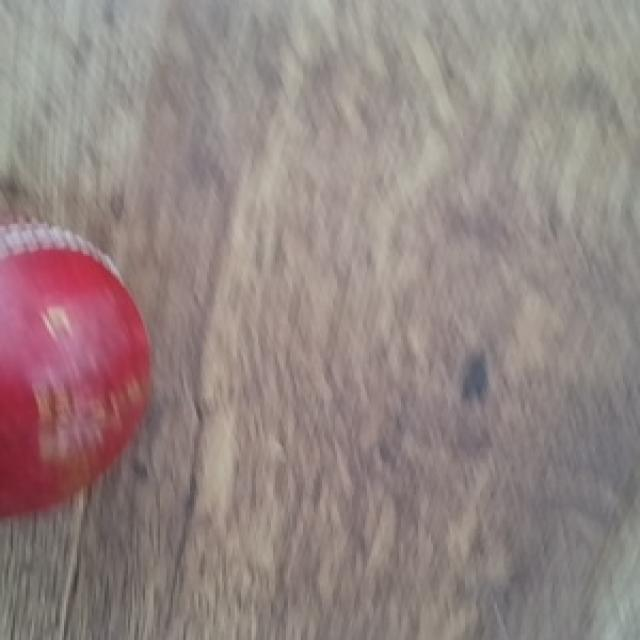ball: (0, 218, 154, 525)
